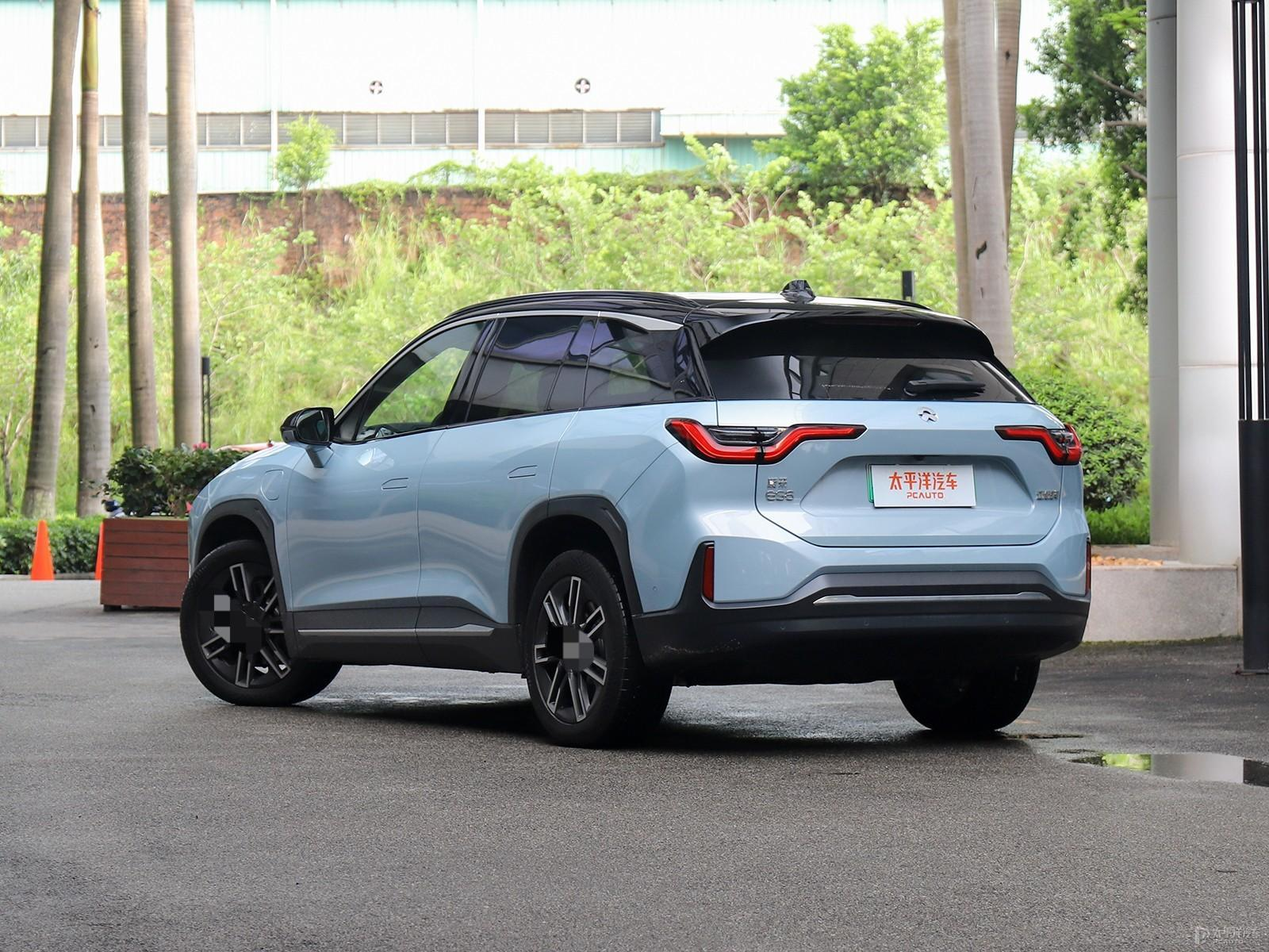NIO: (917, 405, 937, 424)
